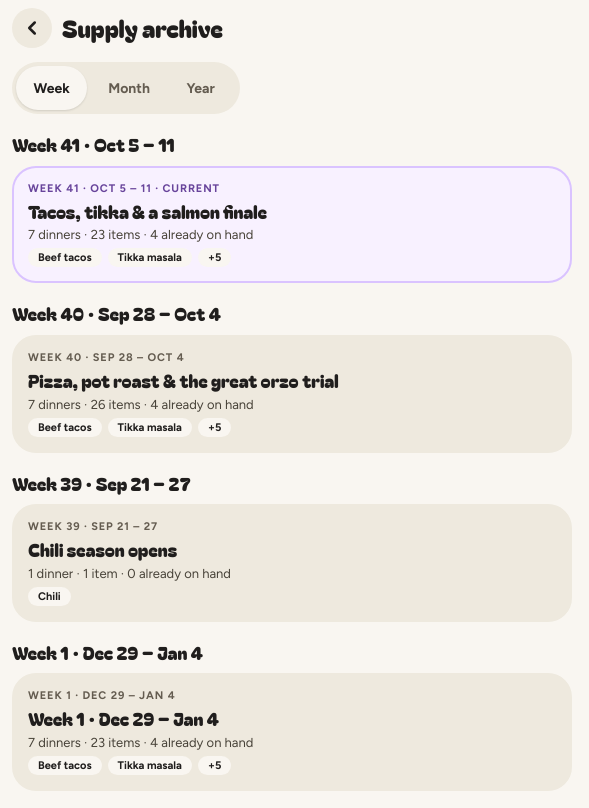
Scenario: SupplyArchivePage › groups by Month under the headings the server sends, across the month and year boundaries
Check: the text "Chili season opens" is shown, box [28,536,177,562]
What coordinates should you click on to do the following:
click the radio button labelled "Month"
I would click on:
 (126, 88)
Its box is [91,66,161,110].
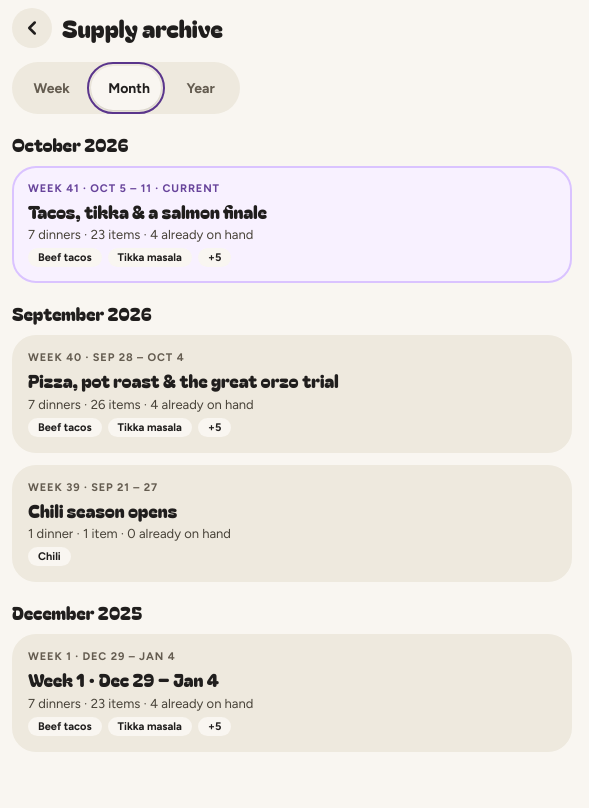
Check: the headings read "October 2026", "September 2026", "December 2025", in this order, box [12,131,128,157]; [12,300,152,326]; [12,599,142,625]
